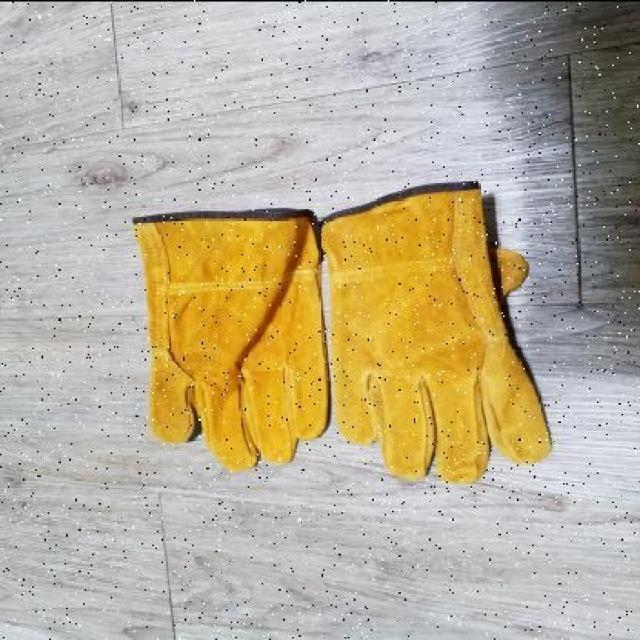glove: (319, 179, 552, 484), (131, 207, 330, 472)
